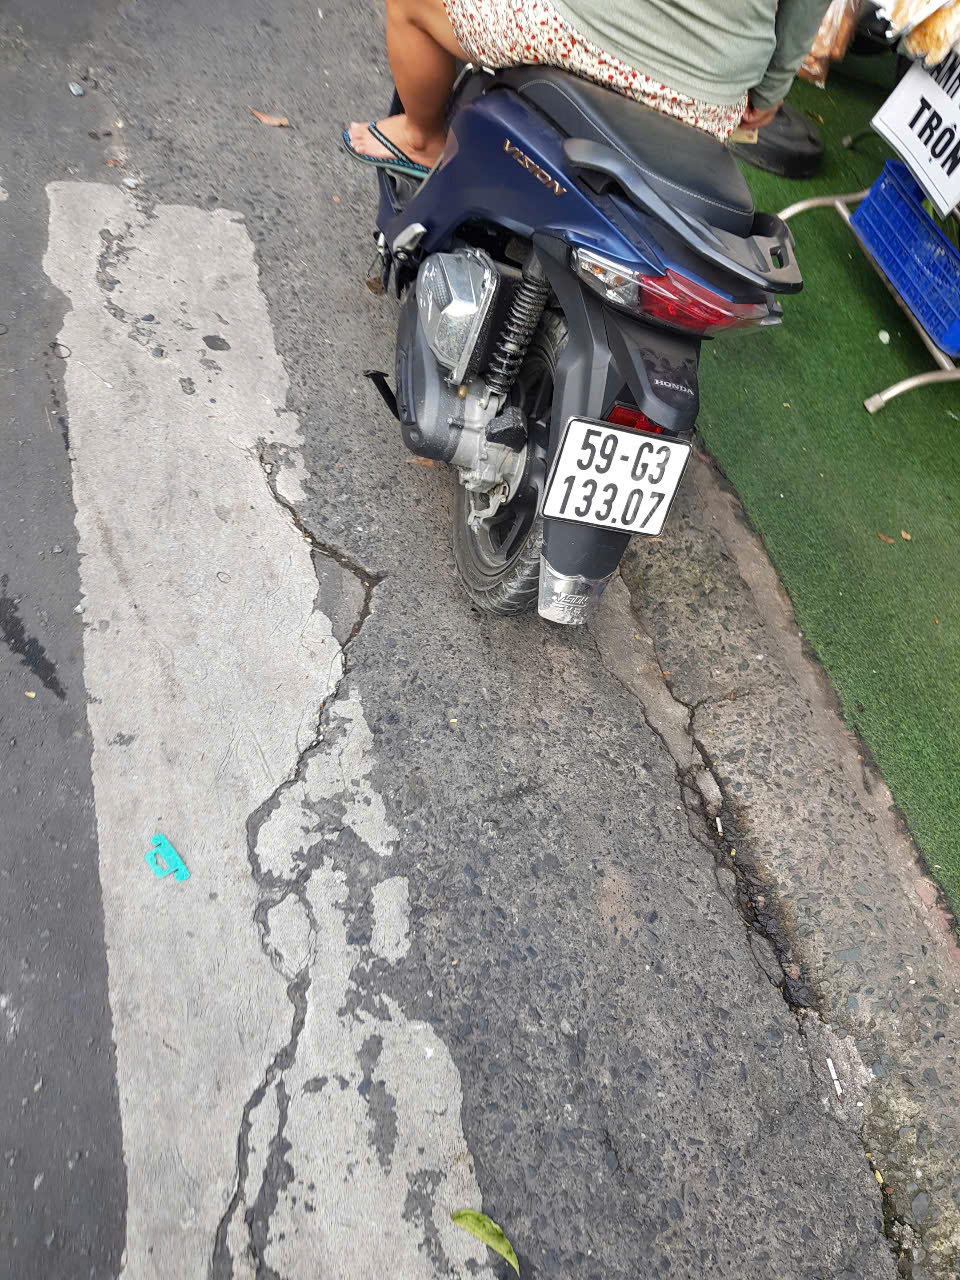bien_so: (540, 419, 690, 537)
